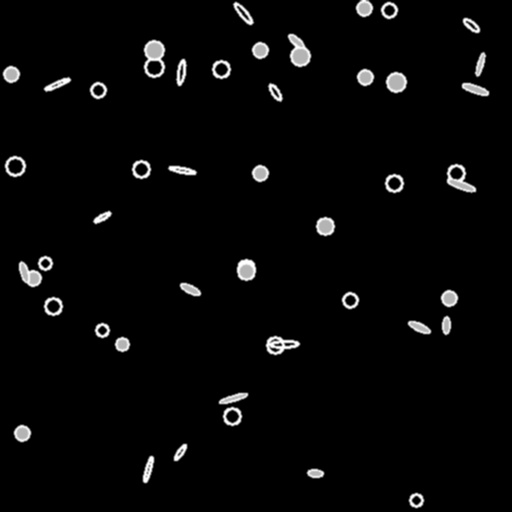pseudomonas: (232, 1, 254, 25), (446, 177, 476, 193), (44, 76, 70, 92), (462, 81, 488, 97), (408, 319, 430, 335), (219, 392, 247, 404), (142, 455, 154, 483), (287, 32, 305, 50), (180, 281, 200, 297), (267, 82, 283, 102), (462, 17, 480, 33), (474, 52, 486, 76), (92, 210, 112, 224), (18, 261, 30, 283), (169, 165, 195, 175), (173, 443, 187, 461), (176, 60, 186, 84), (270, 341, 298, 347), (307, 469, 323, 477), (443, 317, 449, 333)
synechocystis: (145, 58, 163, 76), (291, 47, 309, 65), (6, 157, 24, 175), (145, 41, 163, 59), (387, 73, 405, 91), (238, 260, 254, 276), (386, 175, 402, 191), (213, 61, 229, 77), (267, 337, 283, 353), (133, 161, 149, 177), (224, 408, 240, 424), (238, 263, 254, 279), (45, 298, 61, 314), (317, 218, 333, 234), (448, 165, 464, 181), (26, 271, 40, 285), (4, 67, 18, 81), (442, 291, 456, 305), (15, 426, 29, 440), (357, 1, 371, 15), (358, 70, 372, 84), (91, 83, 105, 97), (253, 166, 267, 180), (382, 3, 396, 17), (343, 293, 357, 307), (253, 43, 267, 57), (96, 324, 108, 336), (116, 338, 128, 350), (410, 494, 422, 506), (39, 257, 51, 269)
